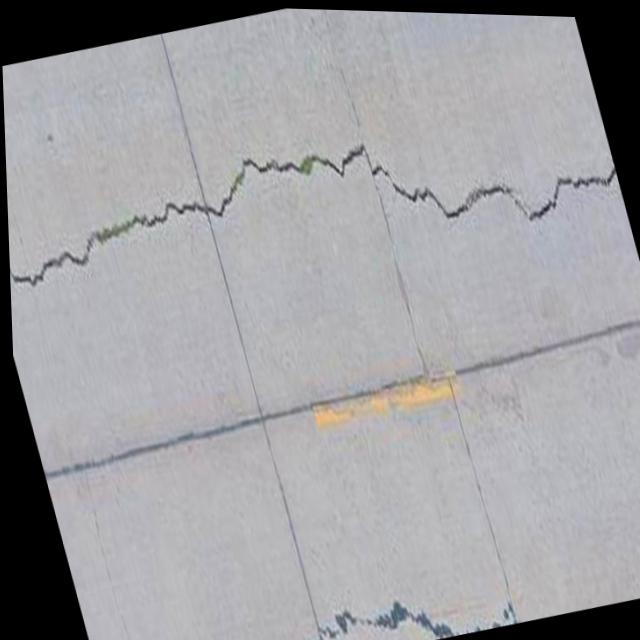Crack: (2, 73, 630, 356)
